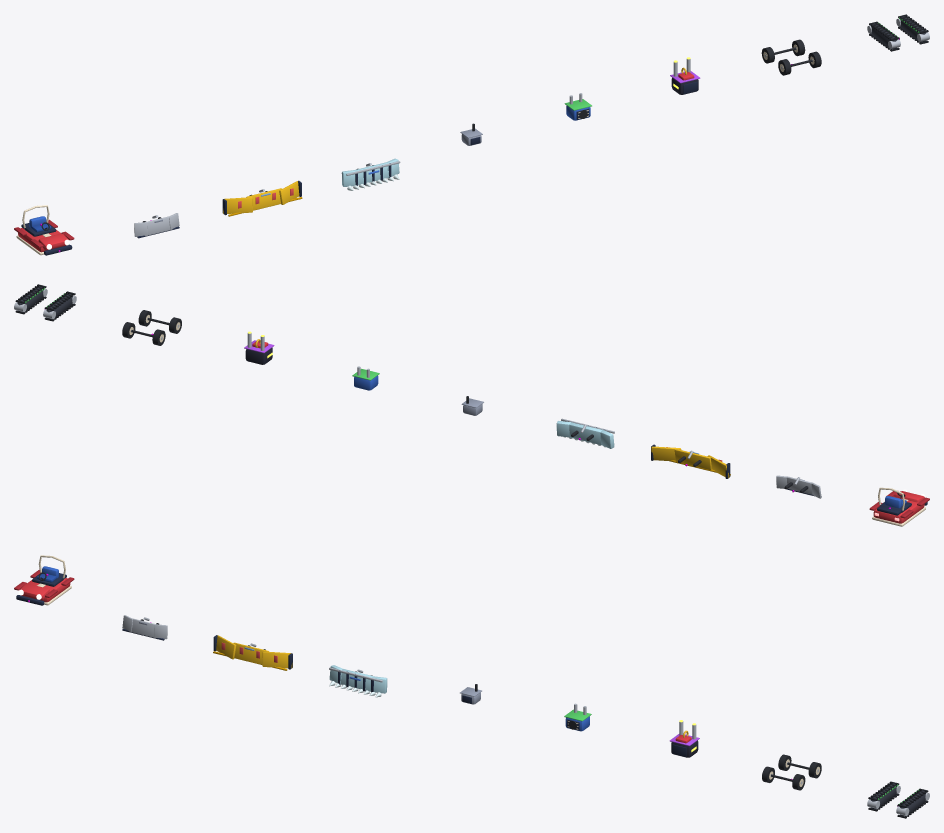
The model's file is SnowplowKit.fbx.
The picture shows the model from 3 angles, top to bottom: view 1: azimuth 30°, elevation 25°; view 2: azimuth 150°, elevation 25°; view 3: azimuth 330°, elevation 25°; orthographic projection.
Parts seen in each view (by area): view 1: BladeWide__Wing__FFC81ESP.001, GearWheels__Tire__2A2D34SP.001, GearTracks__Cleats__1E2128SP.001; view 2: GearWheels__Tire__2A2D34SP.001, GearTracks__Cleats__1E2128SP.001, BladeWide__Wing__FFC81ESP.001; view 3: BladeWide__Wing__FFC81ESP.001, GearWheels__Tire__2A2D34SP.001, GearTracks__Cleats__1E2128SP.001.
Part boxes in pixels (x1,y1,x2,y2): BladeWide__Wing__FFC81ESP.001: [223, 181, 299, 213]; GearWheels__Tire__2A2D34SP.001: [761, 39, 821, 75]; GearTracks__Cleats__1E2128SP.001: [869, 14, 928, 51]; GearWheels__Tire__2A2D34SP.001: [122, 310, 181, 345]; GearTracks__Cleats__1E2128SP.001: [15, 284, 75, 321]; BladeWide__Wing__FFC81ESP.001: [651, 446, 729, 477]; BladeWide__Wing__FFC81ESP.001: [216, 635, 292, 668]; GearWheels__Tire__2A2D34SP.001: [762, 754, 821, 790]; GearTracks__Cleats__1E2128SP.001: [868, 781, 928, 818].
Bounding box in the file's own units: 150 × 7.26 × 8.38.
